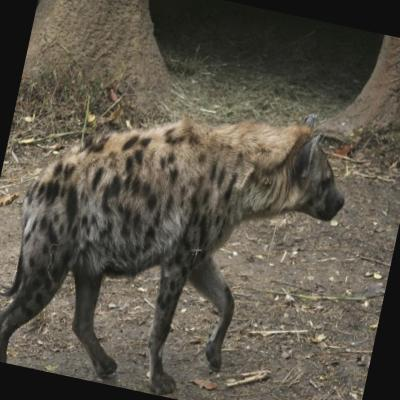hyenas: (0, 50, 397, 400)
